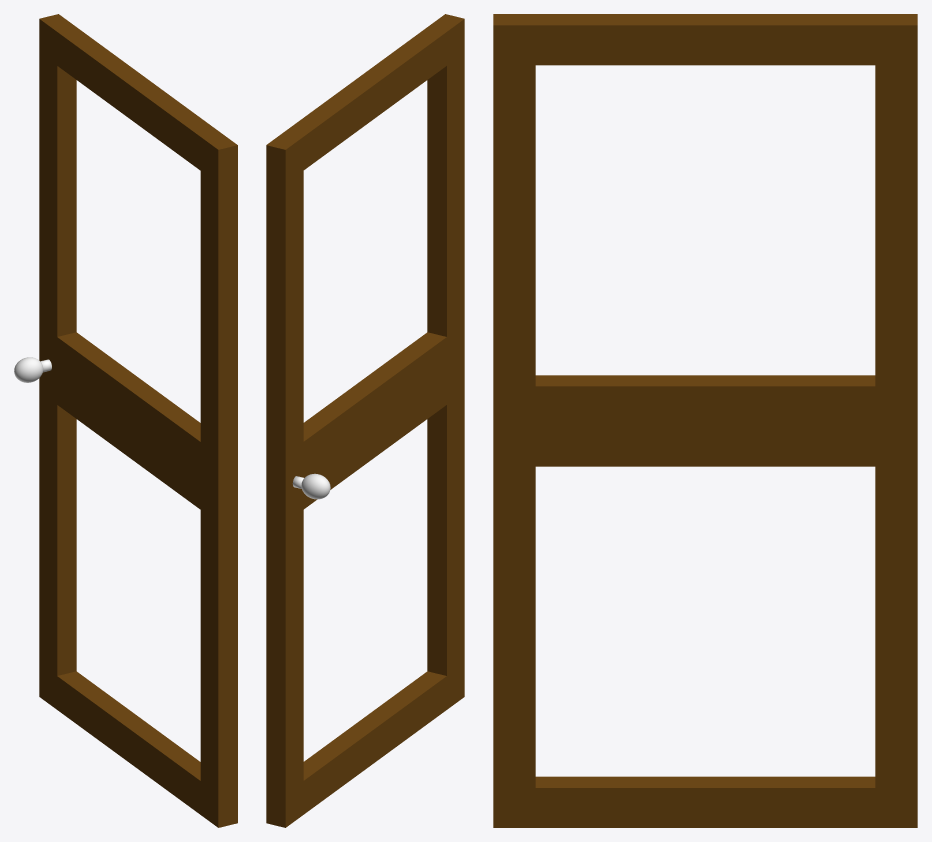
File: Door2Holes.fbx
3 views of the same model, side by side, from view 1: azimuth 30°, elevation 25°; view 2: azimuth 150°, elevation 25°; view 3: azimuth 270°, elevation 25° (orthographic). The views are drawn at different scales.
Parts seen in each view (by area): view 1: Door, DoorHandle; view 2: Door, DoorHandle; view 3: Door.
Part boxes in pixels (x1,y1,x2,y2): Door: (39,14,237,827); DoorHandle: (14,357,43,382); Door: (266,14,464,827); DoorHandle: (301,473,330,499); Door: (493,14,917,827).
Bounding box in the file's own units: 219 × 2669 × 1278.
